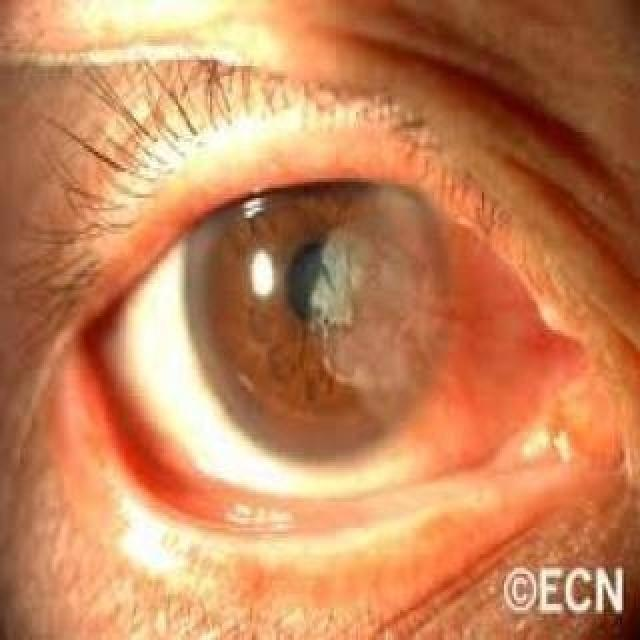Pterygium: (319, 178, 581, 478)
